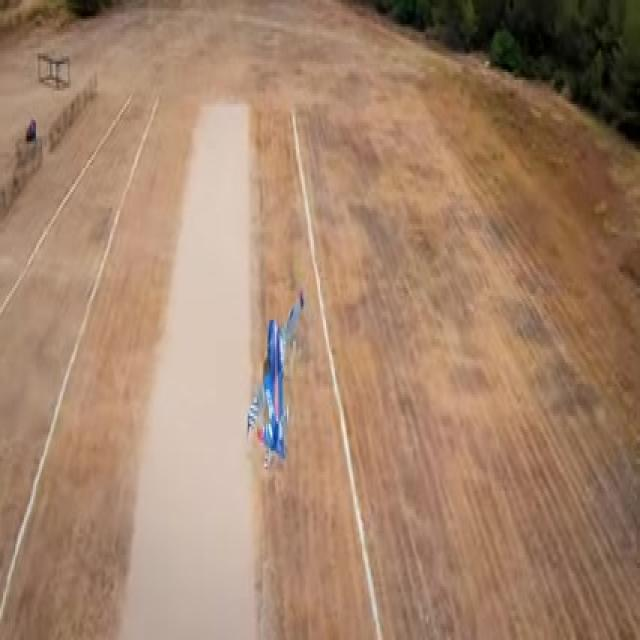iha: (246, 288, 306, 469)
